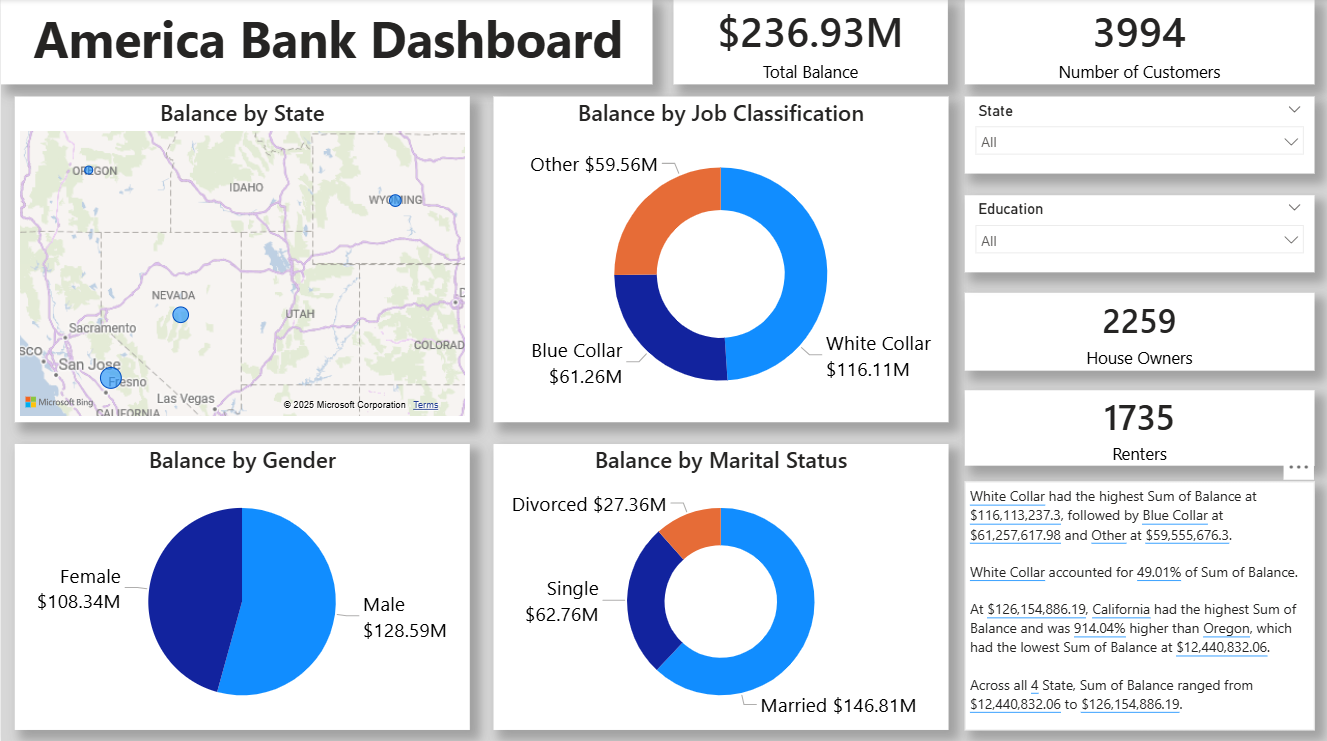

Layout of this report page (visuals, bound fields, positions):
{"tool":"powerbi","page":{"name":"Main Dashboard","canvas":[1280,720],"ordinal":0},"visuals":[{"type":"textbox","box":[0,0,628.5,82.3],"z":0},{"type":"map","title":"Balance by State","fields":{"Category":["AmericaBankNew.State"],"Size":["Sum(AmericaBankNew.Balance)"]},"box":[13.7,94.7,439.1,314.2],"z":1000},{"type":"card","fields":{"Values":["Sum(AmericaBankNew.Balance)"]},"box":[649.1,0,264.8,82.3],"z":2000},{"type":"card","fields":{"Values":["Count(AmericaBankNew.Customer ID)"]},"box":[930.4,0,337.6,82.3],"z":3000},{"type":"pieChart","title":"Balance by Gender","fields":{"Category":["AmericaBankNew.Gender"],"Y":["Sum(AmericaBankNew.Balance)"]},"box":[13.7,429.5,439.1,275.8],"z":4000},{"type":"donutChart","title":"Balance by Marital Status","fields":{"Y":["Sum(AmericaBankNew.Balance)"],"Category":["AmericaBankNew.Marital Status"]},"box":[474.8,429.5,439.1,275.8],"z":5000},{"type":"donutChart","title":"Balance by Job Classification","fields":{"Y":["Sum(AmericaBankNew.Balance)"],"Category":["AmericaBankNew.Job Classification"]},"box":[474.8,94.7,439.1,314.2],"z":6000},{"type":"card","fields":{"Values":["CountNonNull(AmericaBankNew.House_Loan)"]},"box":[930.4,284,337.6,75.5],"z":7000},{"type":"card","fields":{"Values":["CountNonNull(AmericaBankNew.House_Loan)"]},"box":[930.4,377.4,337.6,72.7],"z":8000},{"type":"textbox","box":[930.4,465.2,337.6,240.1],"z":9000},{"type":"slicer","fields":{"Values":["AmericaBankNew.State"]},"box":[930.4,94.7,337.6,74.1],"z":10000},{"type":"slicer","fields":{"Values":["AmericaBankNew.Education"]},"box":[930.4,189.4,337.6,74.1],"z":11000}]}

Visuals, with their boxes in screenshot pixels (x1, y1, x2, y2), scaled from the page's 1280x720 canvas onto the 1327x741 screenshot:
textbox: crop(0, 0, 652, 85)
"Balance by State" map: crop(14, 97, 469, 421)
card - Sum(AmericaBankNew.Balance): crop(673, 0, 947, 85)
card - Count(AmericaBankNew.Customer ID): crop(965, 0, 1315, 85)
"Balance by Gender" pieChart: crop(14, 442, 469, 726)
"Balance by Marital Status" donutChart: crop(492, 442, 947, 726)
"Balance by Job Classification" donutChart: crop(492, 97, 947, 421)
card - CountNonNull(AmericaBankNew.House_Loan): crop(965, 292, 1315, 370)
card - CountNonNull(AmericaBankNew.House_Loan): crop(965, 388, 1315, 463)
textbox: crop(965, 479, 1315, 726)
slicer - AmericaBankNew.State: crop(965, 97, 1315, 174)
slicer - AmericaBankNew.Education: crop(965, 195, 1315, 271)
